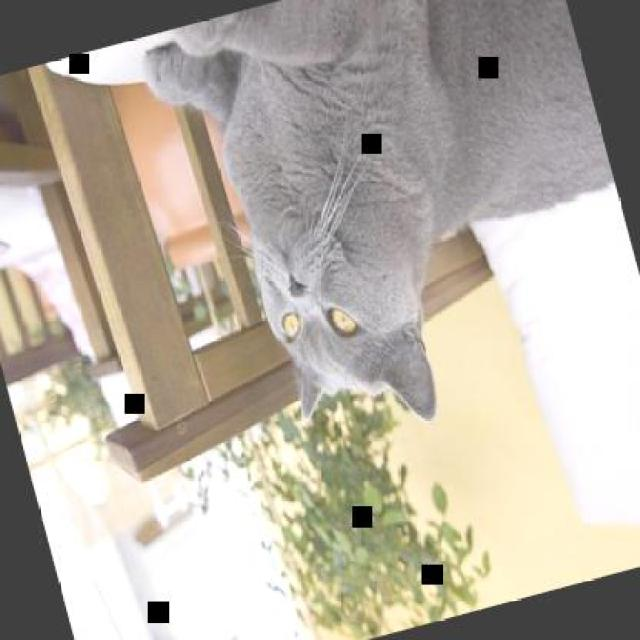cat: (136, 0, 638, 469)
